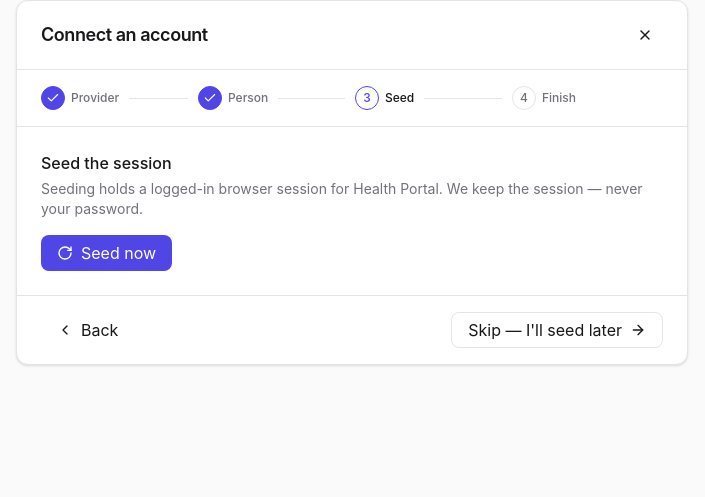
Scenario: ConnectWizard — connect flow › shows the calm "not configured yet" panel on a fail-closed seed (no error)
This screenshot has width=705, height=497.
Step 1. Click the button "Seed now" → (107, 253), box [41,235,172,271]
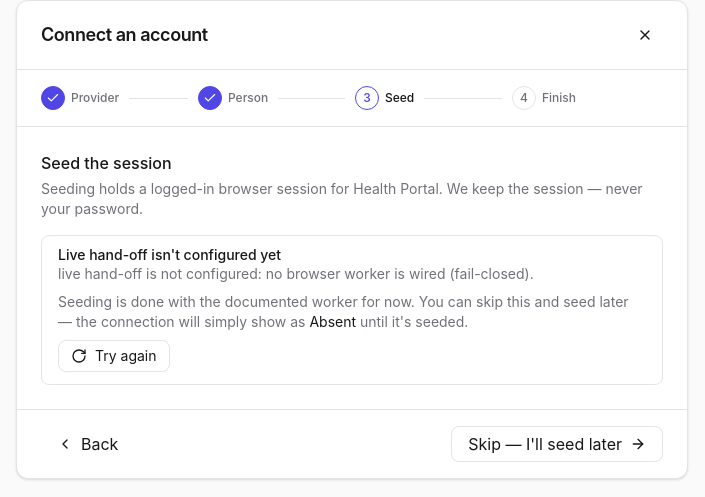
Expected: the button "Skip — I'll seed later" is enabled, [451,426,663,462]
Expected: the heading "Live hand-off isn't configured yet" is shown, [58,246,281,263]
Expected: the text "fail-closed" is shown, [58,265,534,282]
